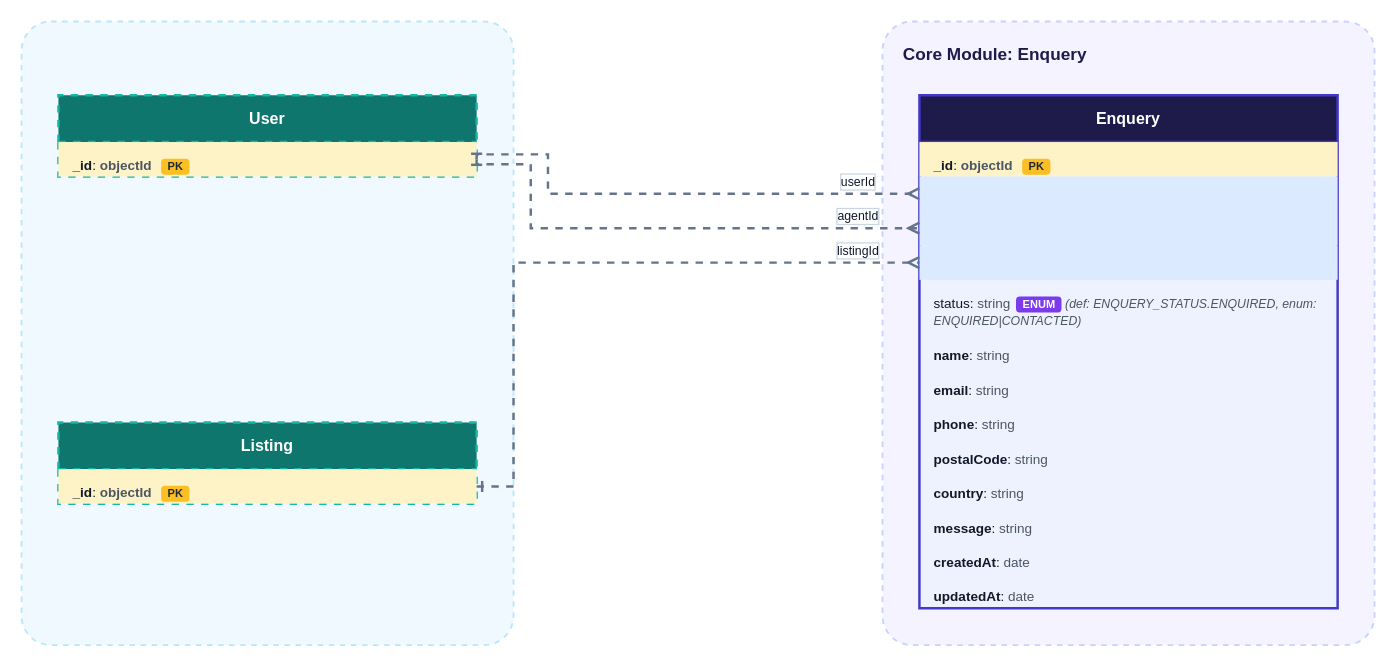
Some shapes in this 1397 by 668 pixel diagram are drawn without their labels. The box of each missing label's shape, as (x1, y1, x2, y2) in pixels:
agentId: objectId FK: (919, 210, 1337, 245)
listingId: objectId FK: (919, 245, 1337, 279)
Parent Lookups / External Dependencies: (20, 20, 514, 646)
userId: objectId FK: (919, 176, 1337, 210)
